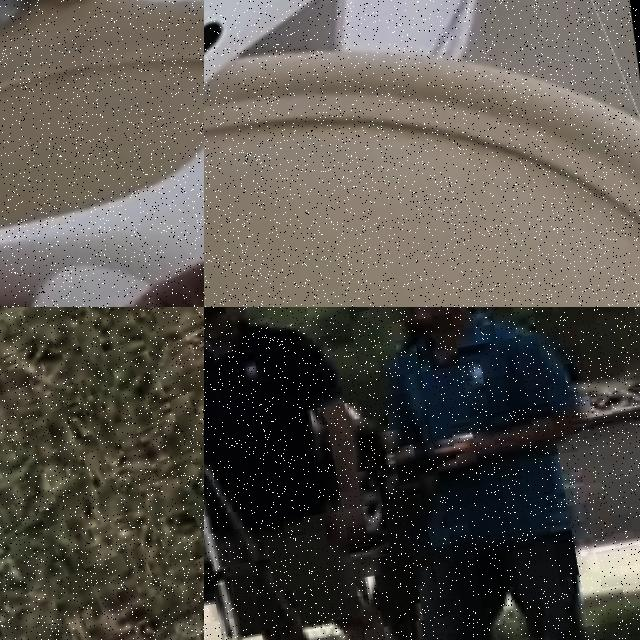0: (0, 307, 204, 640)
drone: (204, 0, 640, 307), (0, 0, 204, 307)
